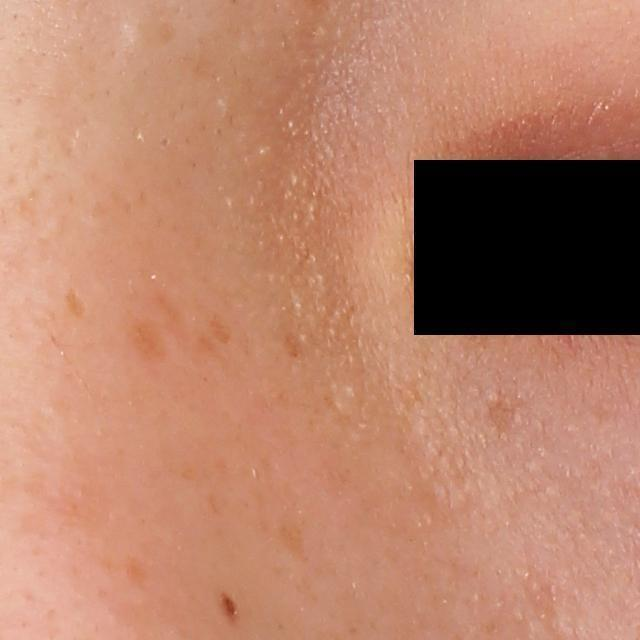comedo: (124, 14, 158, 50)
melasma: (480, 381, 530, 443), (269, 519, 315, 568), (121, 312, 167, 360), (195, 312, 237, 360), (118, 555, 153, 588), (61, 286, 88, 320), (279, 333, 304, 360)
nevus: (218, 586, 241, 628)
